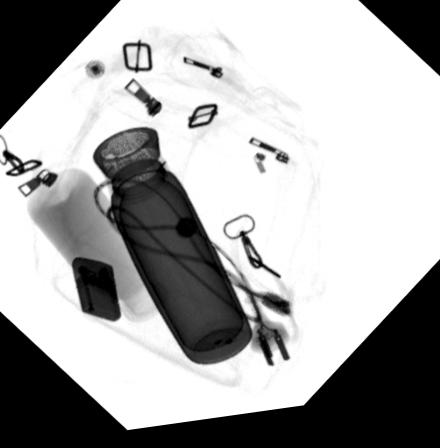Lighter: (69, 257, 122, 327)
